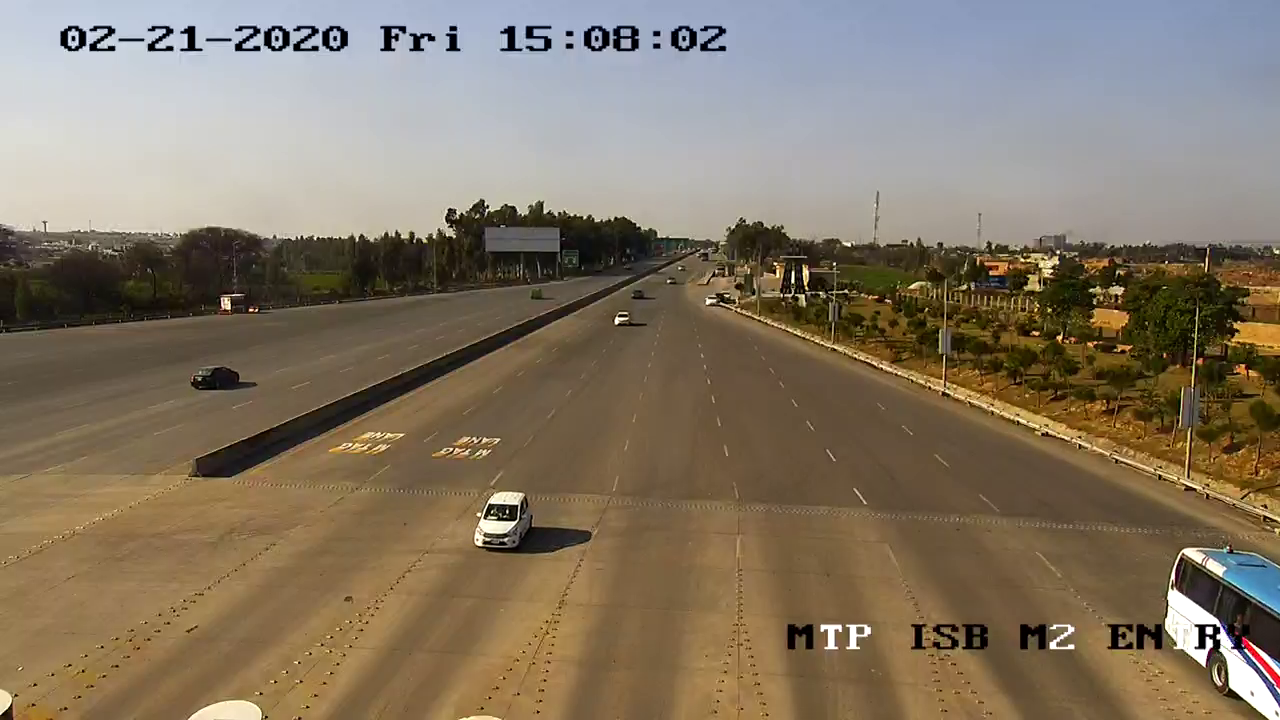f1: (463, 489, 545, 560)
